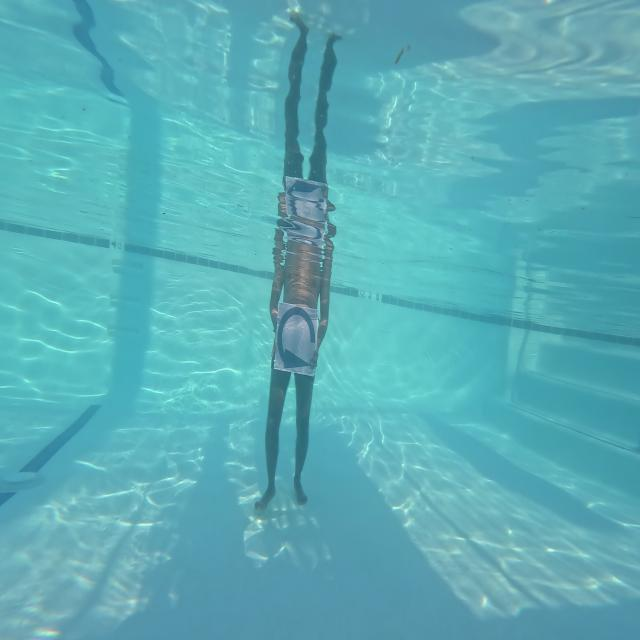blue_side: (275, 296, 322, 376)
